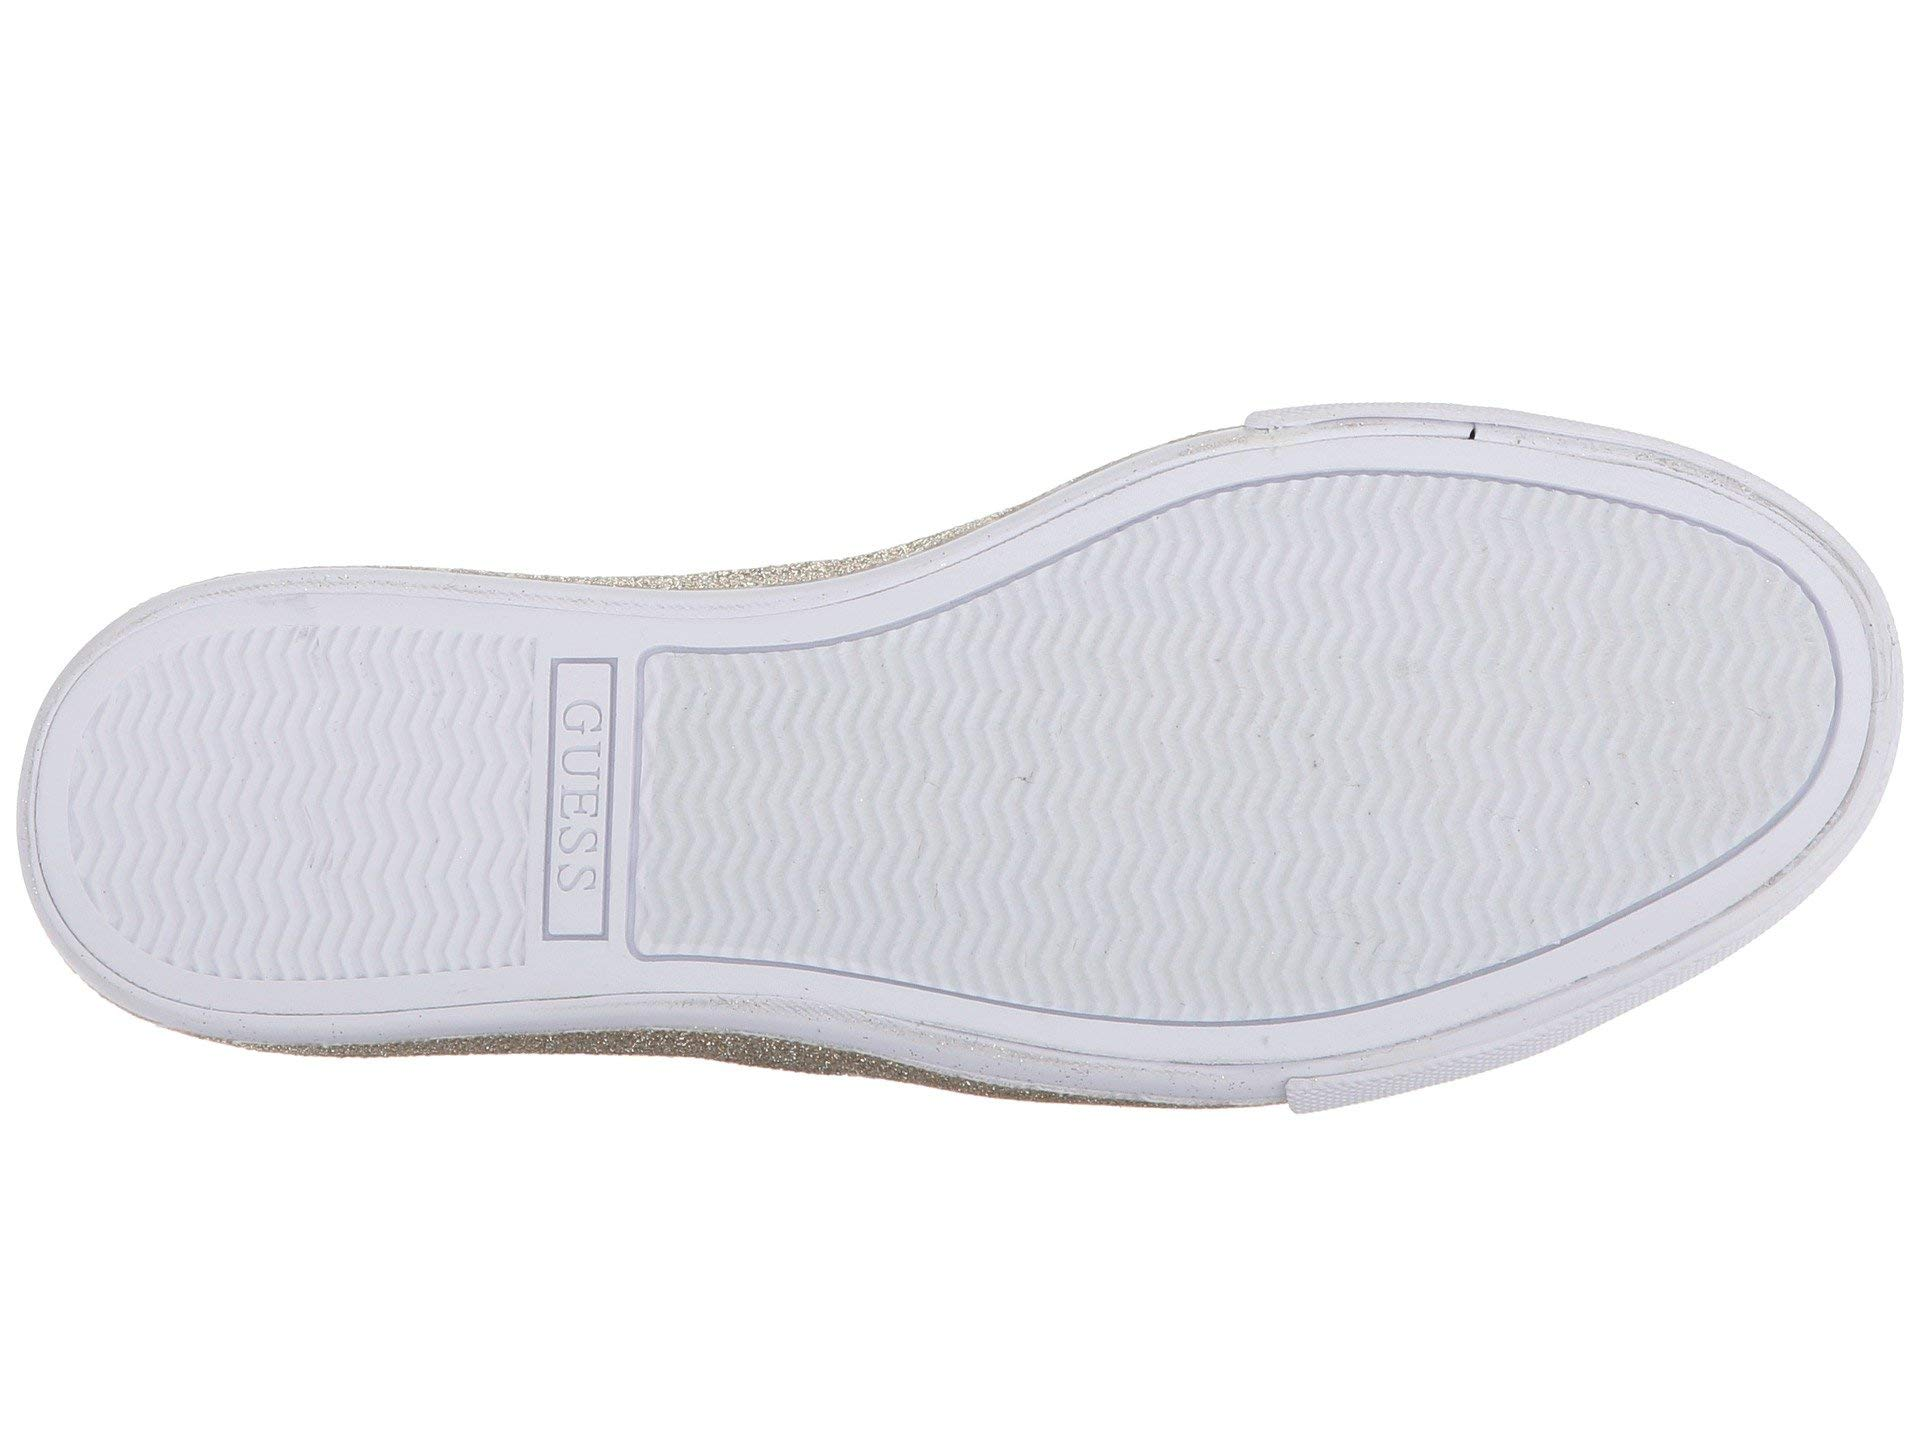chevron: (1023, 570, 1412, 902), (416, 616, 792, 941)
quad: (416, 616, 792, 941)
text: (416, 616, 792, 941)
